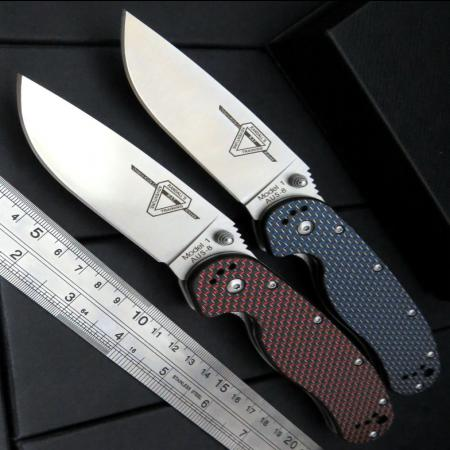long weapon: (120, 7, 334, 220), (13, 66, 232, 268)
